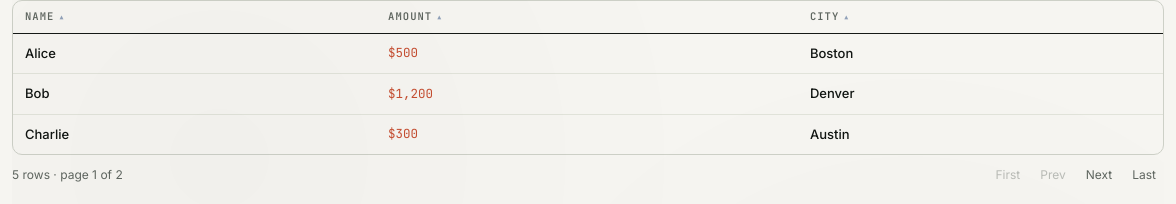
TableExplorer › navigates to next page
Click the button "Next" at (1099,175), box [1078,163,1120,187]
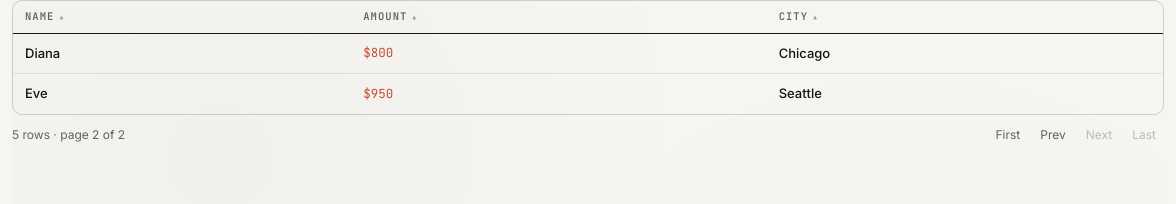
Check: the text "Diana" is shown, box [25,45,60,61]
Check: the text "Eve" is shown, box [25,85,48,101]
Check: the text "Alice" is gone
